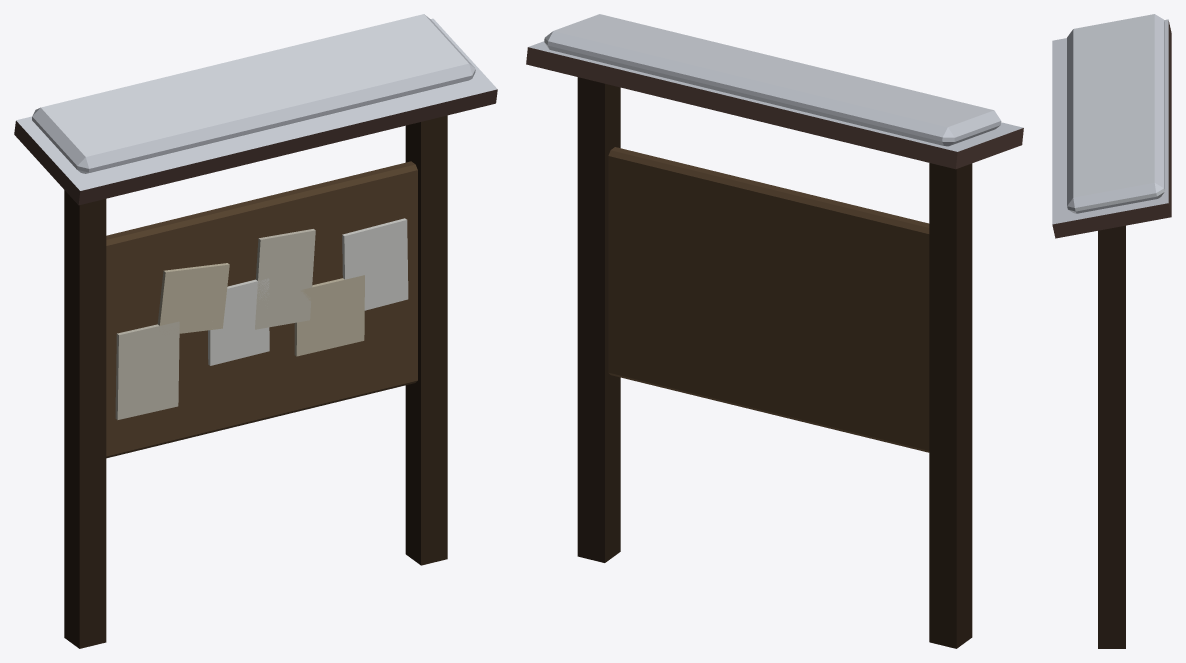
The model's file is village_notice_board.glb.
3 views of the same model, side by side, from view 1: azimuth 30°, elevation 25°; view 2: azimuth 150°, elevation 25°; view 3: azimuth 270°, elevation 25° (orthographic). The views are drawn at different scales.
Visible parts, largest first — view 1: village_notice_board; view 2: village_notice_board; view 3: village_notice_board.
Boxes of the visible parts, x1,y1,x2,y2 form: village_notice_board: (14, 14, 497, 648); village_notice_board: (526, 14, 1023, 648); village_notice_board: (1052, 14, 1171, 648).
Bounding box in the file's own units: 2.2 × 2.62 × 0.6039.
